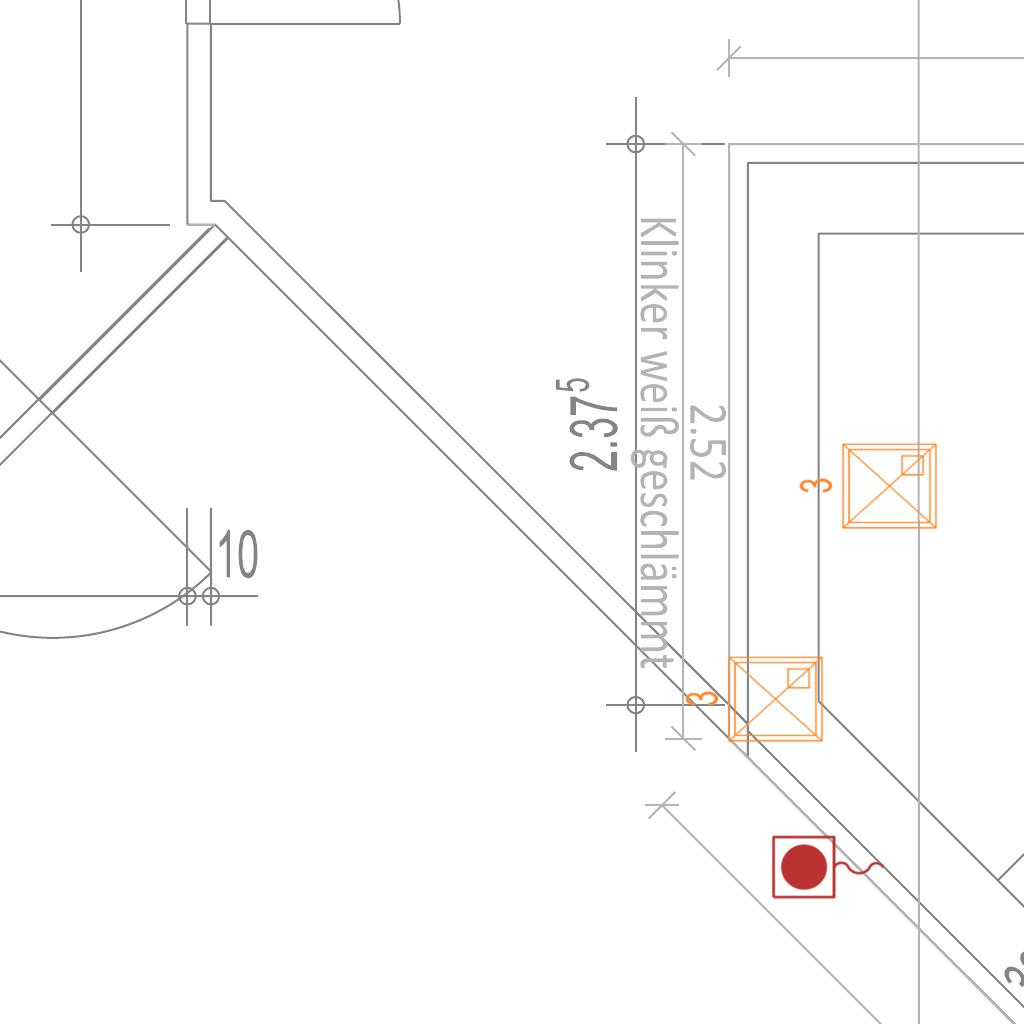Einbaudownlights_LED_Konferenzraeume: (794, 436, 944, 540), (680, 649, 830, 753)
Zugtaster: (768, 832, 890, 904)
